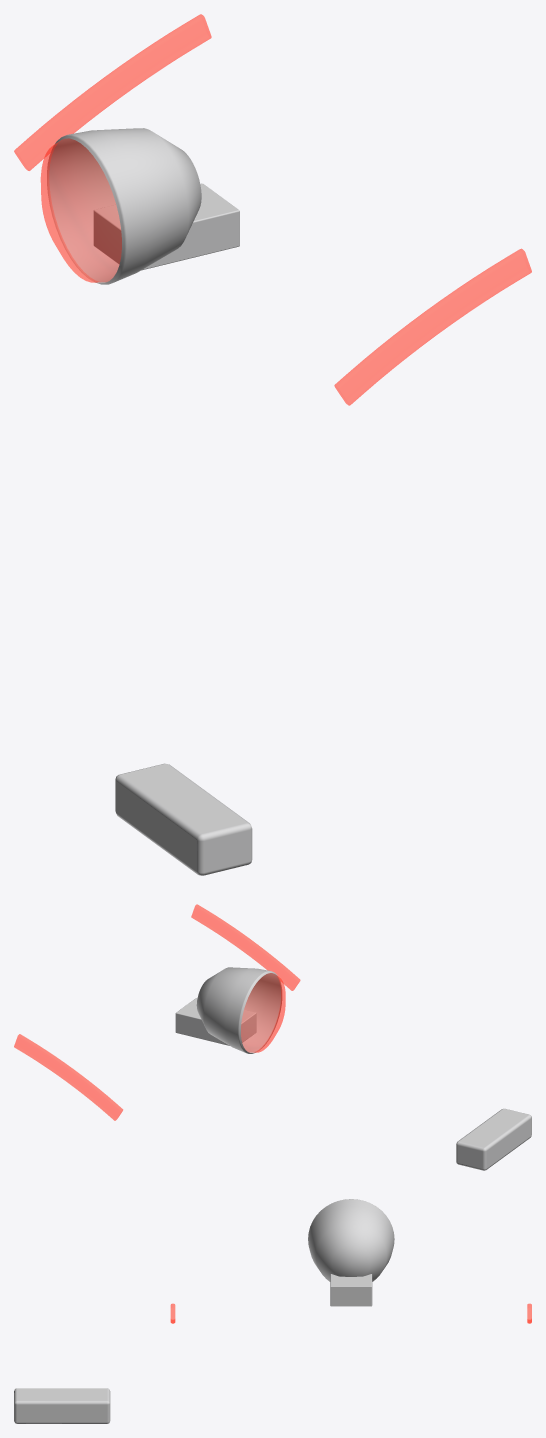
Rendered from bike_cruiser__tail_light.glb.
The picture shows the model from 3 angles, top to bottom: view 1: azimuth 30°, elevation 25°; view 2: azimuth 150°, elevation 25°; view 3: azimuth 270°, elevation 25°; orthographic projection. The views are drawn at different scales.
Visible parts, largest first — view 1: electrical__tail_light, electrical__tail_light__side_reflectors, electrical__number_plate_light, electrical__tail_light__lens; view 2: electrical__tail_light, electrical__tail_light__side_reflectors, electrical__number_plate_light, electrical__tail_light__lens; view 3: electrical__tail_light, electrical__number_plate_light.
Boxes of the visible parts, x1,y1,x2,y2 form: electrical__tail_light: (47, 128, 239, 284); electrical__tail_light__side_reflectors: (14, 14, 531, 405); electrical__number_plate_light: (115, 763, 252, 875); electrical__tail_light__lens: (40, 138, 121, 282); electrical__tail_light: (175, 967, 281, 1053); electrical__tail_light__side_reflectors: (14, 904, 300, 1120); electrical__number_plate_light: (456, 1108, 531, 1170); electrical__tail_light__lens: (241, 973, 285, 1052); electrical__tail_light: (308, 1199, 394, 1306); electrical__number_plate_light: (14, 1388, 110, 1423).
Size of the model in its own units: 18.96 by 18.01 by 32.25.
